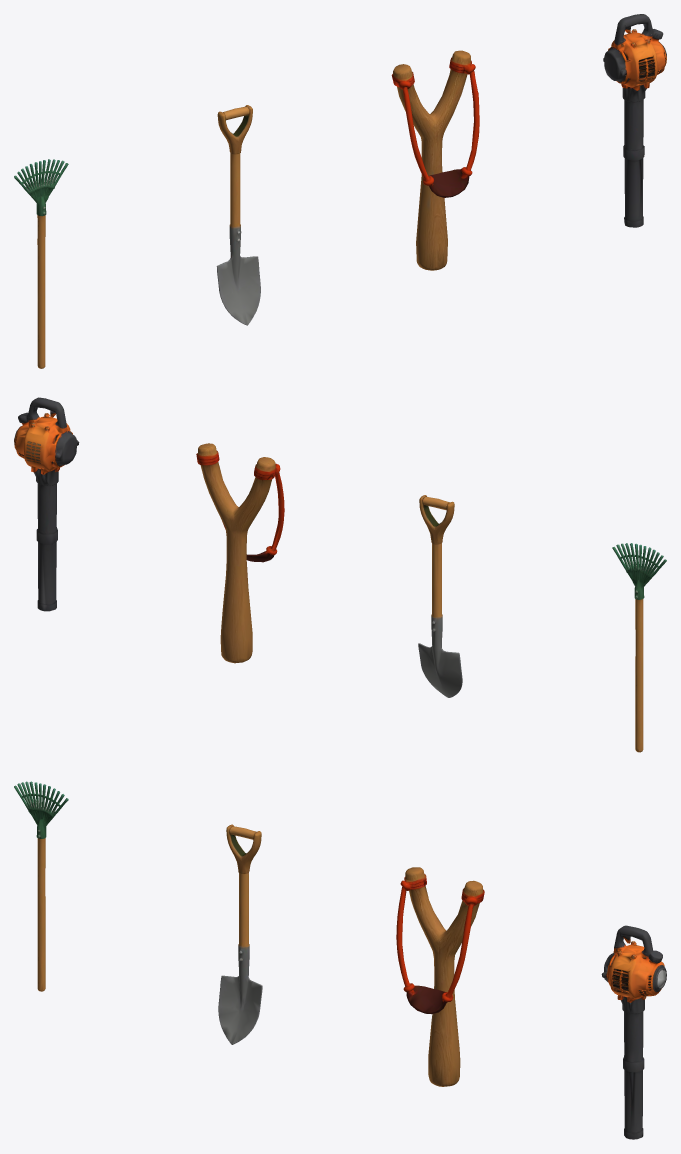
Rendered from held-b.glb.
3 views of the same model, one above another, from view 1: azimuth 30°, elevation 25°; view 2: azimuth 150°, elevation 25°; view 3: azimuth 330°, elevation 25° (orthographic).
Parts seen in each view (by area): view 1: slingshot, blower, shovel, rake; view 2: slingshot, blower, shovel, rake; view 3: slingshot, blower, shovel, rake.
Boxes of the visible parts, x1,y1,x2,y2 form: slingshot: [391, 50, 479, 270]; blower: [603, 14, 666, 227]; shovel: [216, 105, 260, 325]; rake: [14, 159, 68, 368]; slingshot: [196, 443, 284, 663]; blower: [14, 397, 79, 611]; shovel: [418, 495, 462, 697]; rake: [612, 543, 666, 752]; slingshot: [396, 867, 484, 1086]; blower: [601, 925, 666, 1139]; shovel: [218, 824, 262, 1044]; rake: [14, 781, 68, 991].
Bounding box in the file's own units: 3.27 × 1 × 0.243.
1 material, 1 textured.
